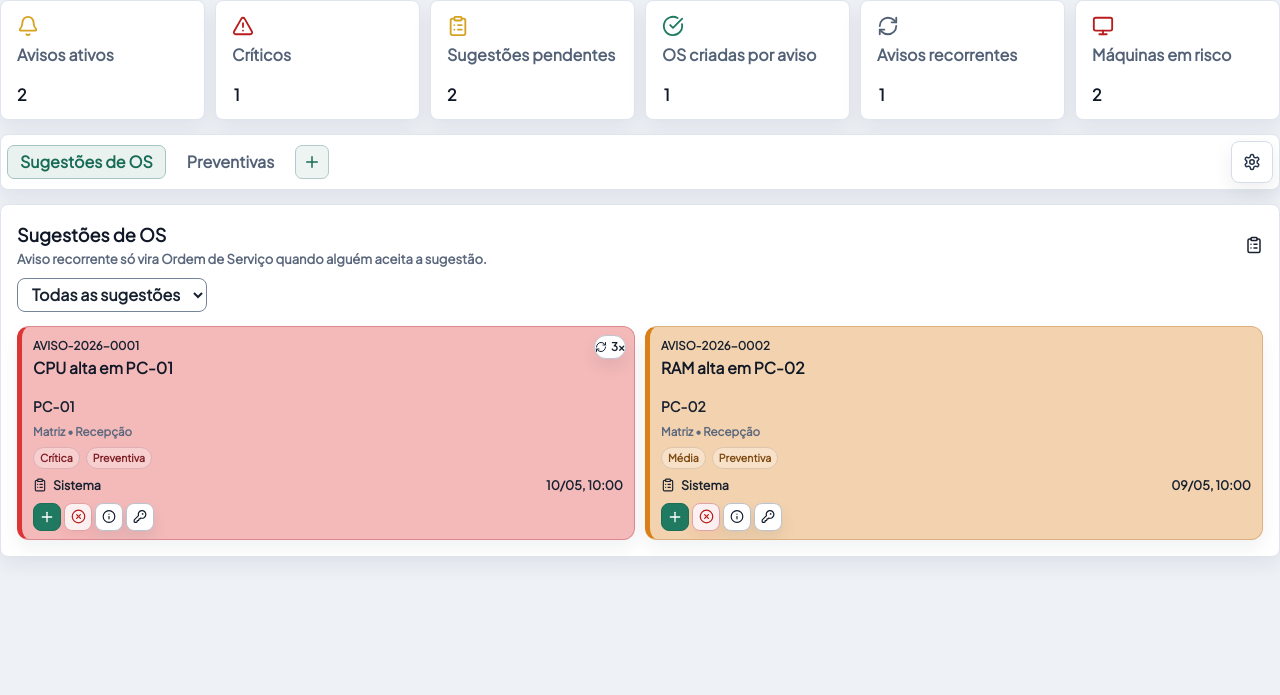
Test: Preventivas - etapa 2 (scripts) e registro › lista scripts ativos, permite expandir a descrição e selecionar
Click the button "Preventivas" at [231, 162], box [174, 145, 287, 179]
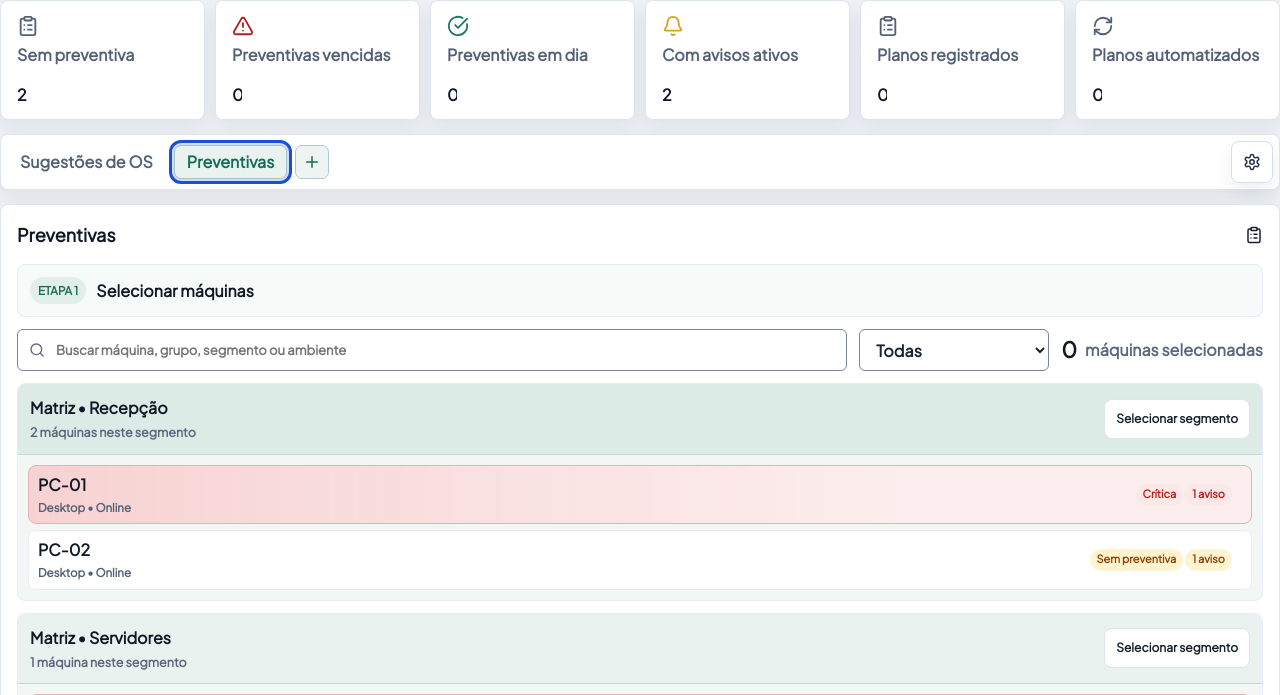
Click the button "PC-01 Desktop • Online Crítica 1 aviso" at [62, 484], box [28, 465, 1252, 524]
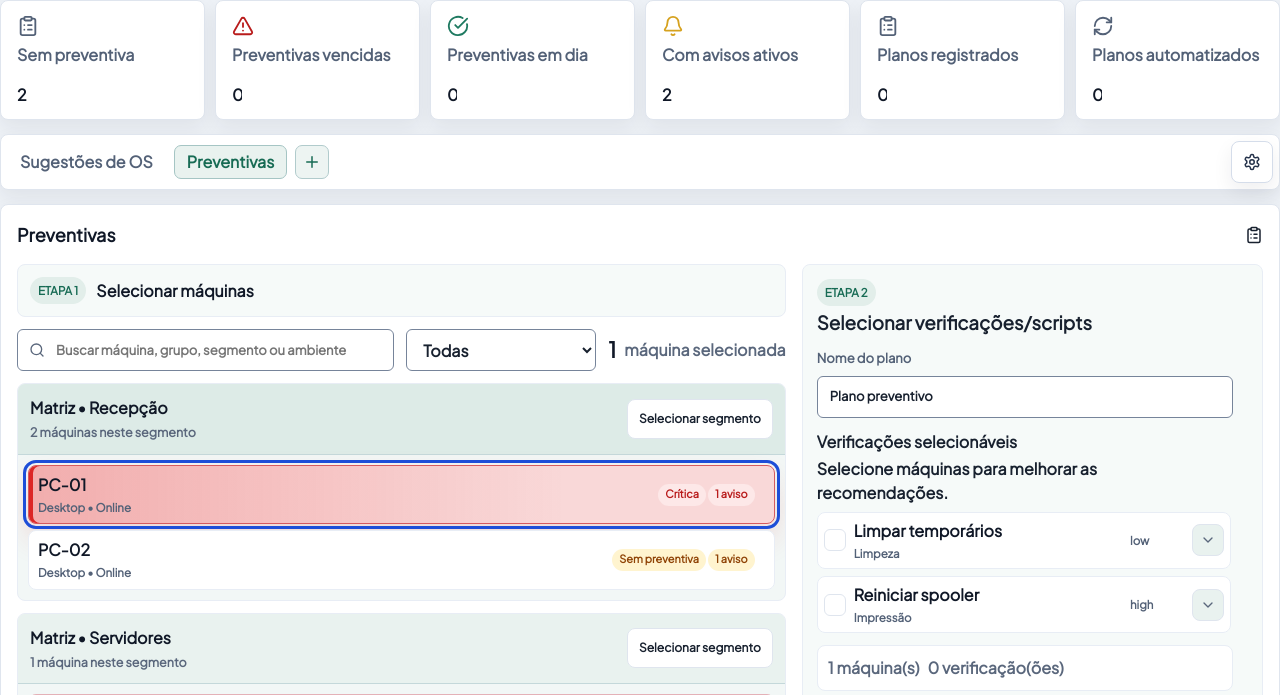
Check: the text "Limpar temporários" is shown, box [854, 520, 1002, 541]
Click the 1st button named "Expandir descrição do script" at [1208, 540], box [1192, 524, 1224, 556]
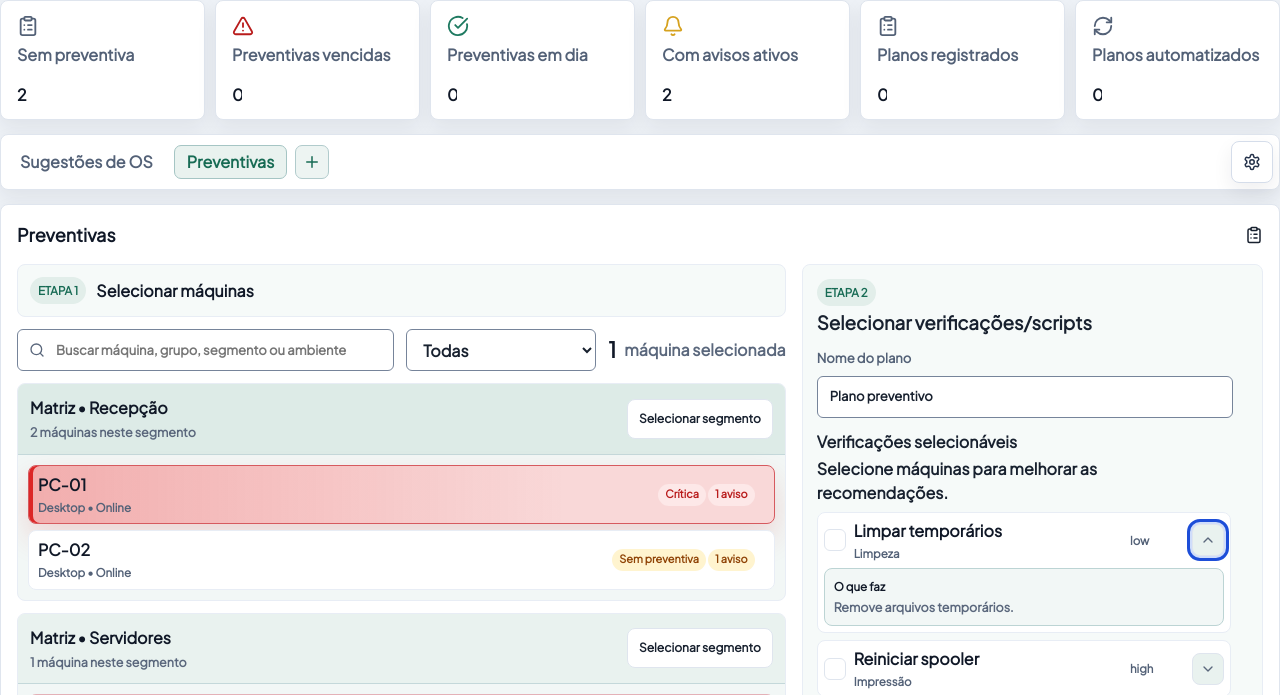
Check: the text "Remove arquivos temporários." is shown, box [834, 599, 1014, 615]
Check: the button named "Recolher descrição do script" is expanded, box [1192, 524, 1224, 556]
Click the text "Limpar temporários" at [928, 530], box [854, 520, 1002, 541]
(page scrolled)
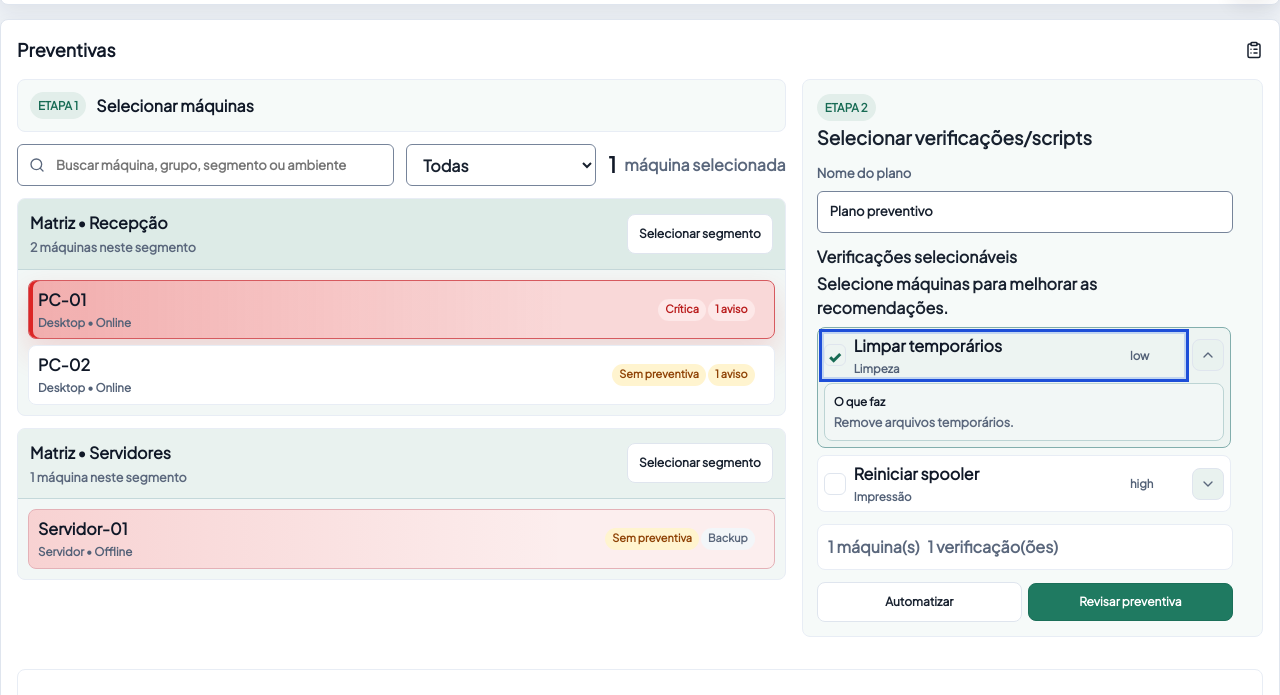
Check: the text "1 máquina(s)" is shown, box [828, 536, 920, 560]
Check: the text "1 verificação(ões)" is shown, box [928, 536, 1058, 560]
Check: the button "Revisar preventiva" is enabled, box [1028, 584, 1233, 622]
